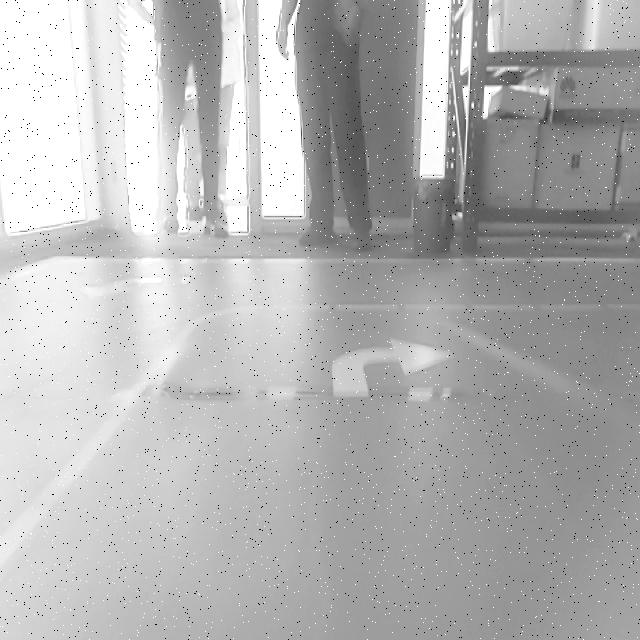left_lane: (0, 317, 196, 574)
